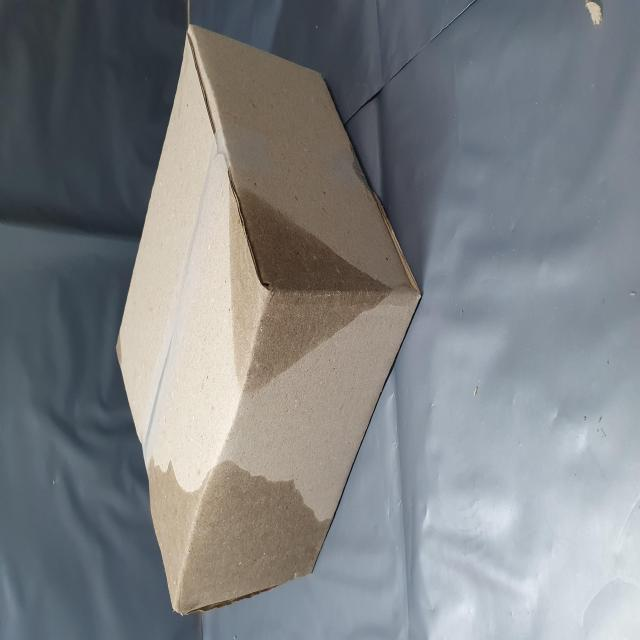wet: (146, 378, 254, 640), (18, 277, 99, 582)
